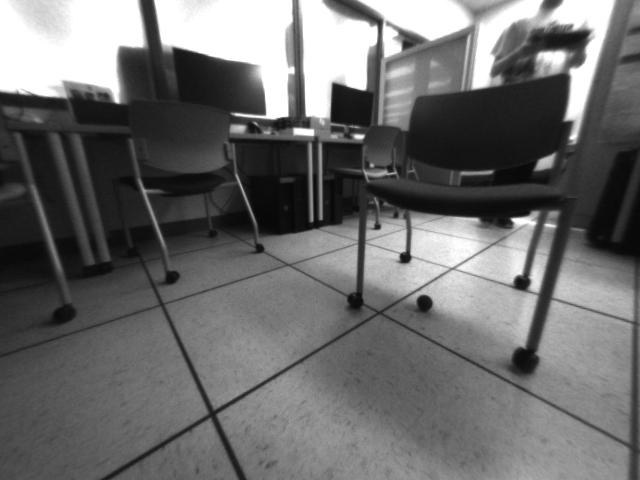dogtoy: (413, 288, 438, 315)
